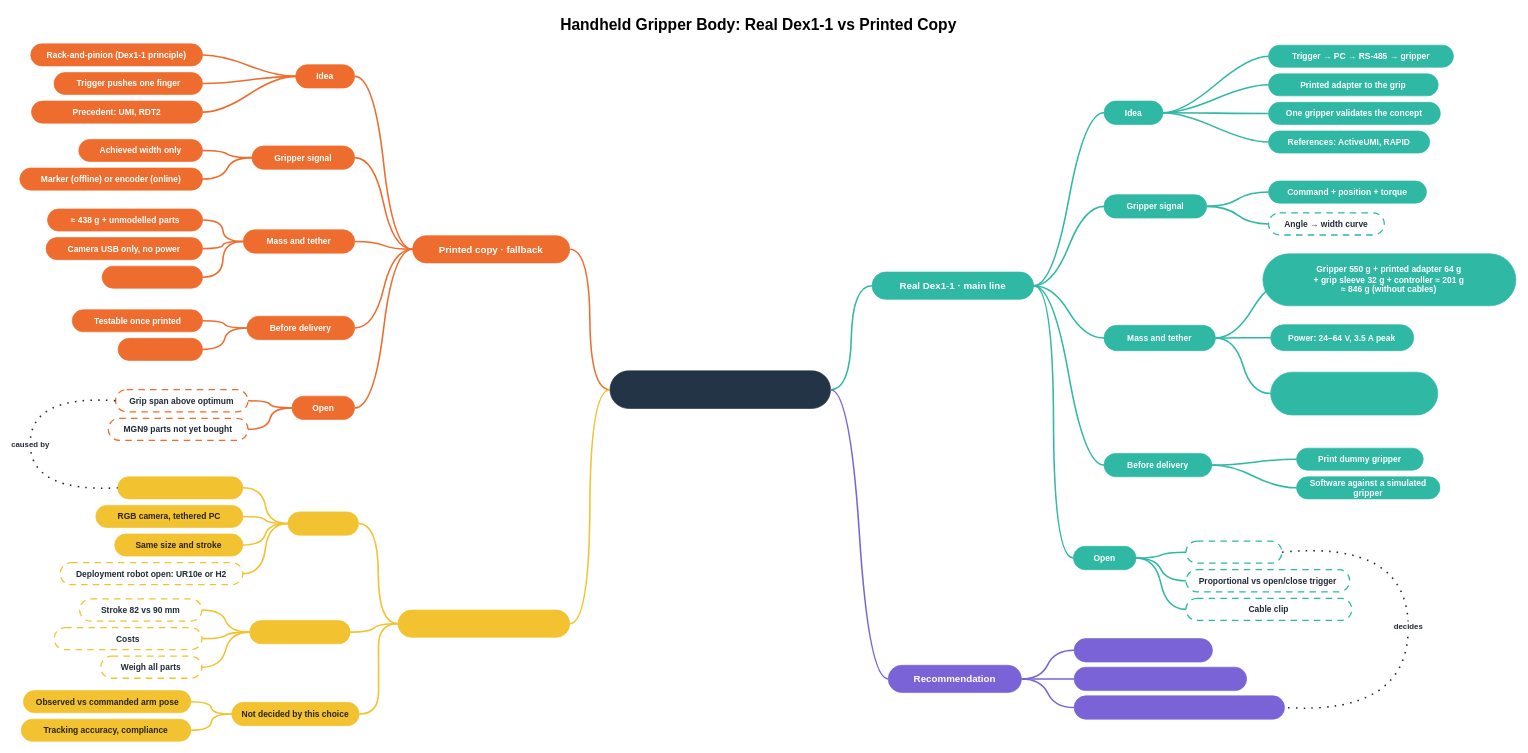
The diagram is 1528 pixels wide and 753 high, and some of its shapes have lost their labels. Each missing label, with the centre of its shape:
"Camera USB + power/RS-485 cable (extension may be needed)" belongs at point 1354,393.
"Concept check on one gripper" belongs at point 1233,552.
"Concept only; design not final" belongs at point 160,349.
"Controller is the grip" belongs at point 180,487.
"Fallback: Printed Copy" belongs at point 1160,679.
"Handheld gripper body" belongs at point 720,389.
"Main Path: Real Dex1-1" belongs at point 1142,650.
"Open for both" belongs at point 299,632.
"Printed fingers" belongs at point 152,277.
"Shared" belongs at point 323,523.
"Shared and open for both" belongs at point 483,623.
"Switch if the check fails" belongs at point 1179,707.
